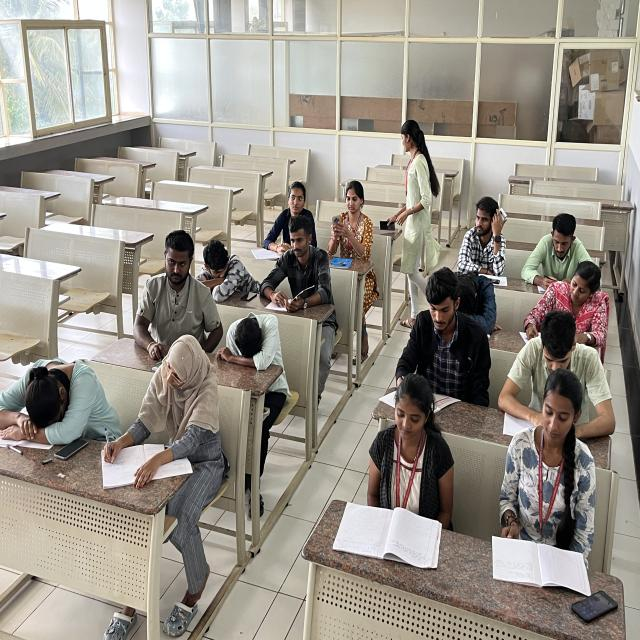Reading: (361, 379, 459, 547)
Sleeping: (4, 350, 116, 434), (190, 234, 256, 306), (223, 309, 284, 363), (450, 263, 503, 319)
Using Phone: (320, 178, 379, 276)
Writing: (100, 322, 237, 498), (516, 263, 614, 347), (258, 180, 320, 258)
